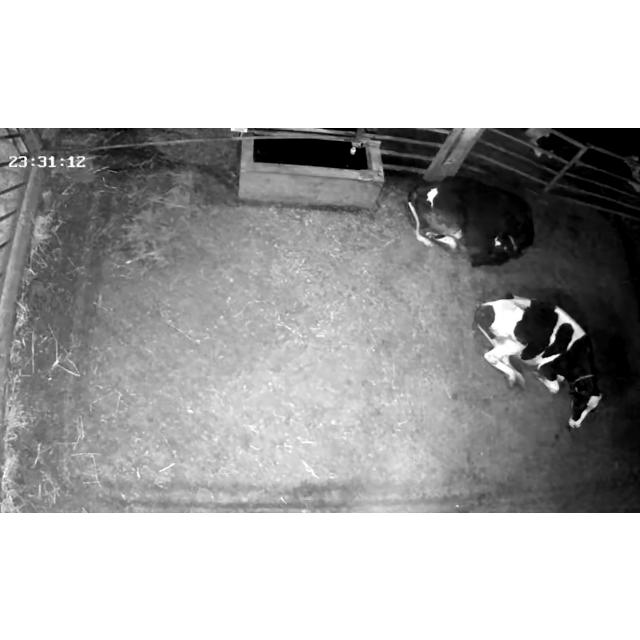lay: (464, 282, 614, 436), (404, 170, 546, 276)
